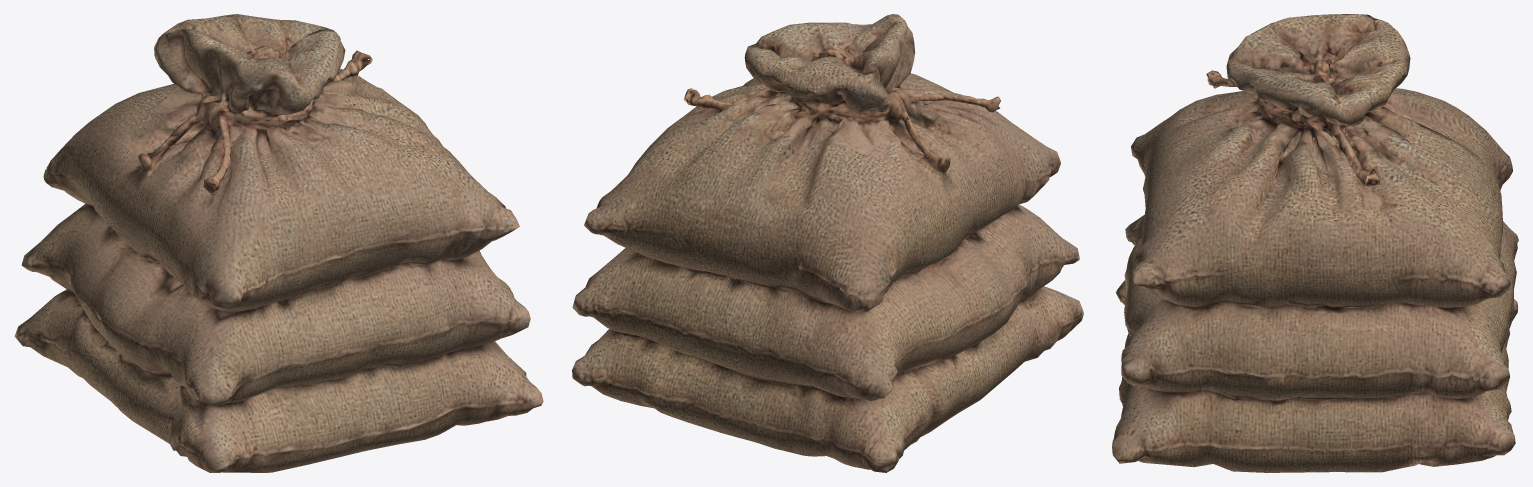
The model's file is SupplyLoad.fbx.
3 views of the same model, side by side, from view 1: azimuth 30°, elevation 25°; view 2: azimuth 150°, elevation 25°; view 3: azimuth 270°, elevation 25° (orthographic). The views are drawn at different scales.
Parts seen in each view (by area): view 1: SupplyLoad.001; view 2: SupplyLoad.001; view 3: SupplyLoad.001.
Boxes of the visible parts, x1,y1,x2,y2 form: SupplyLoad.001: (14, 14, 543, 472); SupplyLoad.001: (572, 14, 1083, 472); SupplyLoad.001: (1112, 14, 1518, 472).
Bounding box in the file's own units: 98.52 × 99.85 × 101.
Materials: 1 (1 with a texture image).
